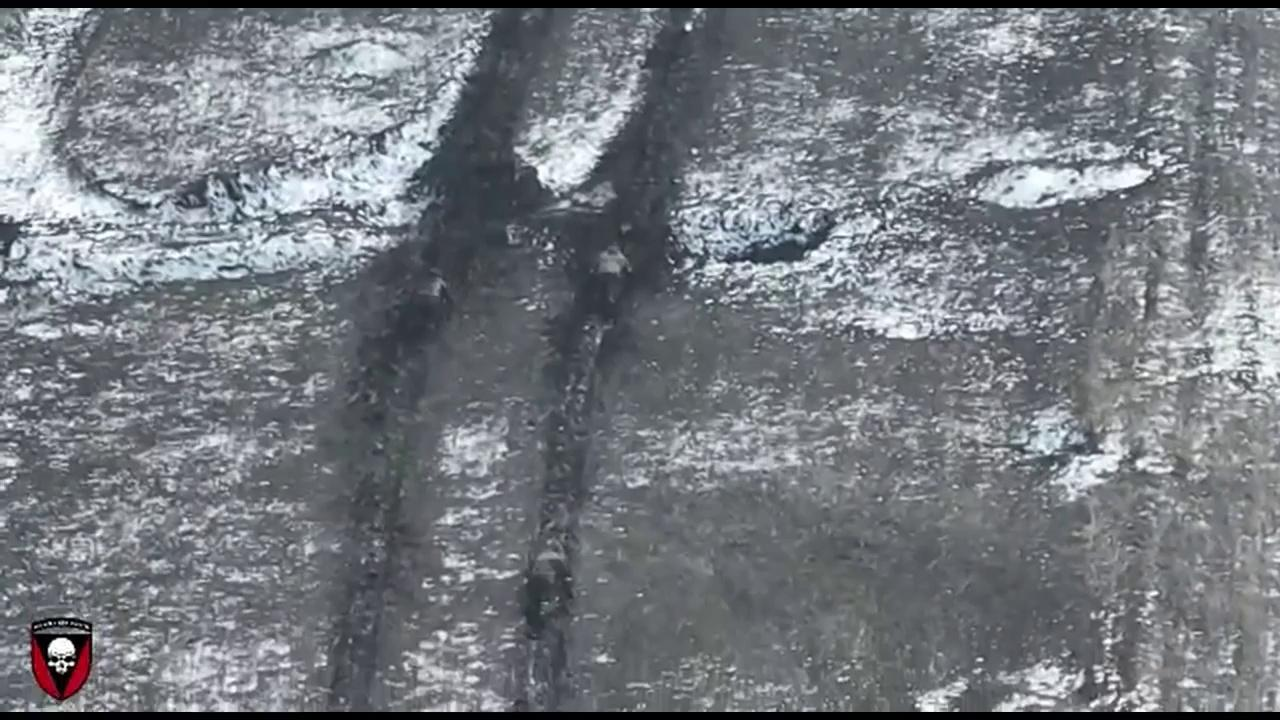person: (528, 538, 570, 620), (588, 242, 626, 314), (412, 265, 451, 324)
